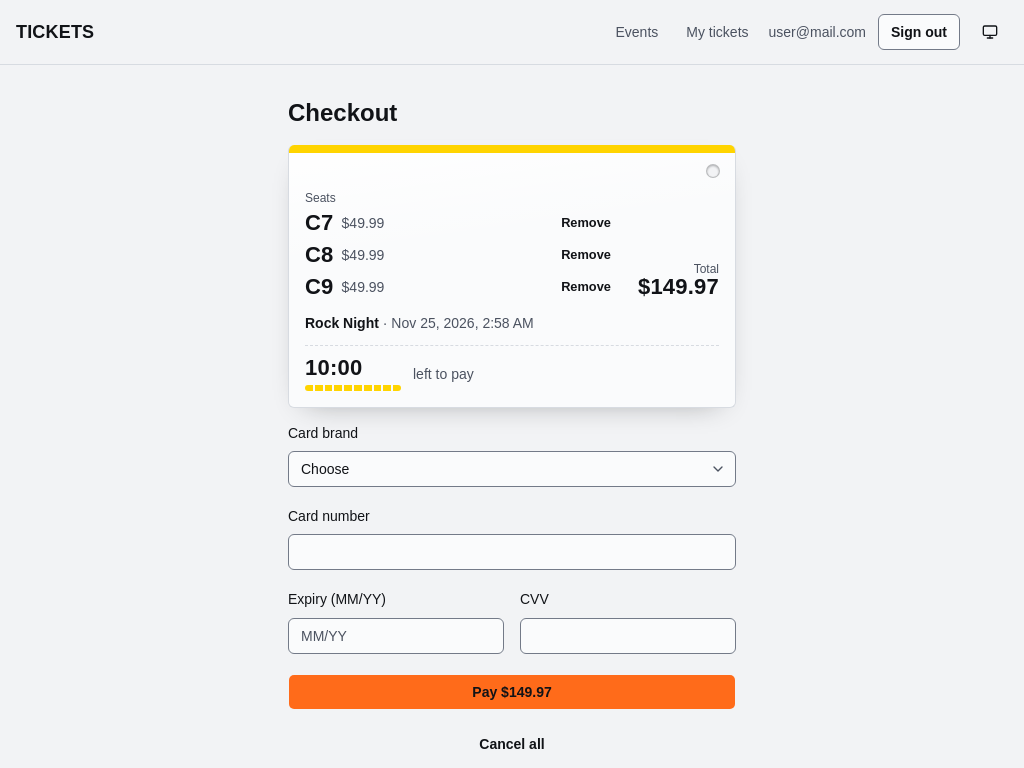
Test: removing a seat from the group › cancels only that reservation, leaves the link and recalculates the total
The width and height of the screenshot is (1024, 768).
Click the button with aria-label "Remove C8": (586, 255) [550,241,622,269]
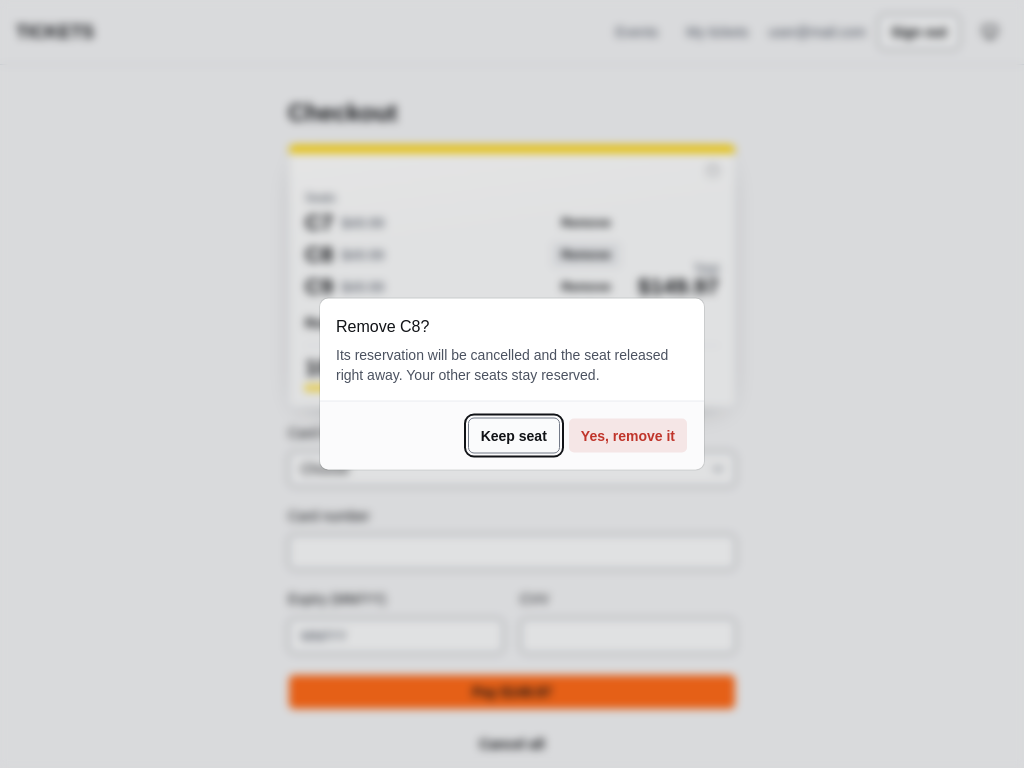
Click the button "Yes, remove it": (628, 436) [568,418,688,454]
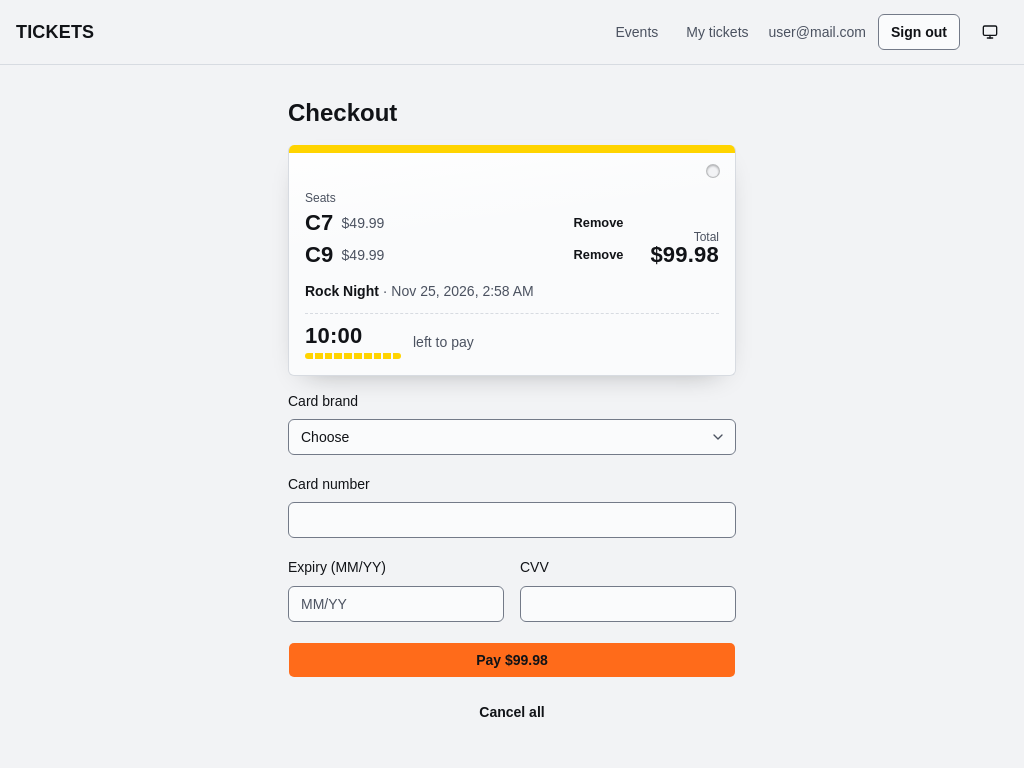
Expected: the button "Pay $99.98" is shown, [288,642,736,678]
Expected: the text "C8" is gone
